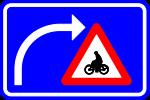Cycle Crossing: (75, 40, 122, 84)
